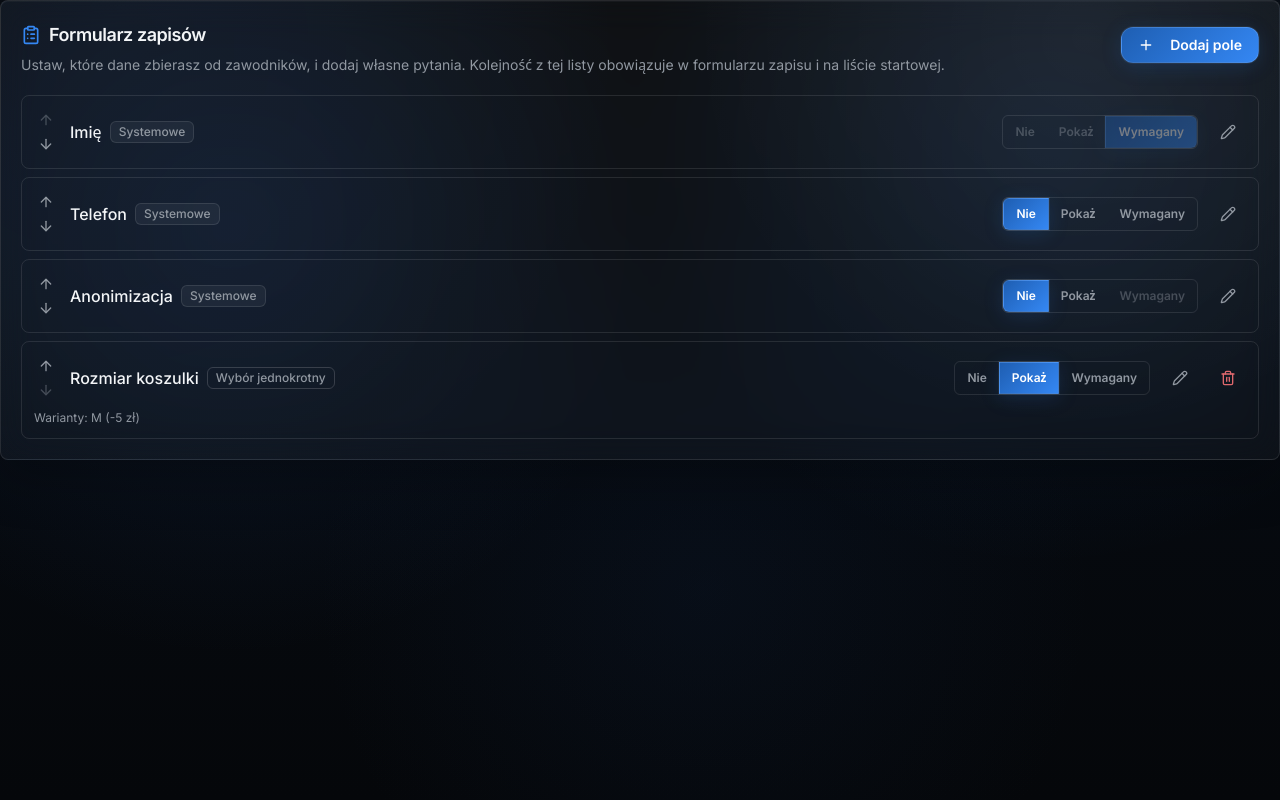
Test: FormFieldsTab › changes the tri-state of a free system position and shows the server message on error
Click the button "Wymagany" in the row of "Telefon" at {"x": 1152, "y": 214}, box [1107,198,1197,230]
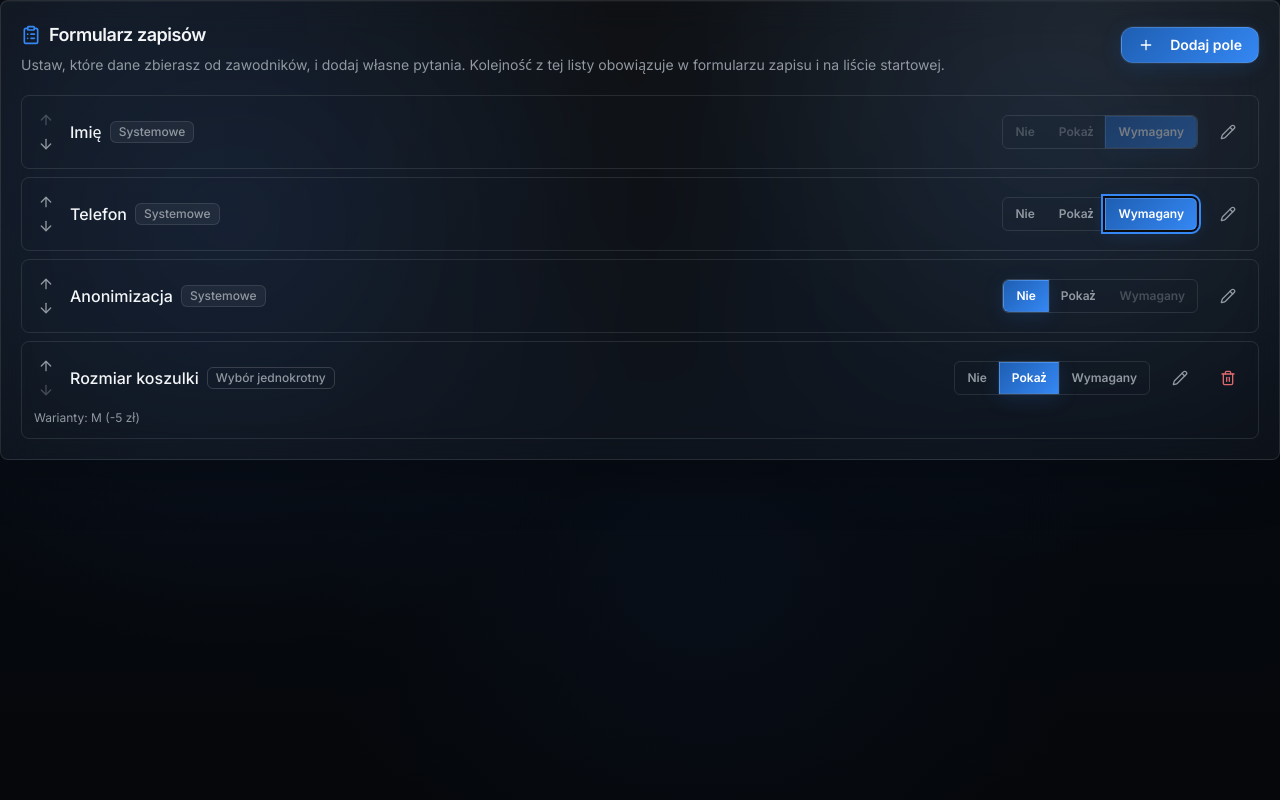
Click the button "Pokaż" in the row of "Telefon" at {"x": 1076, "y": 214}, box [1047,198,1105,230]
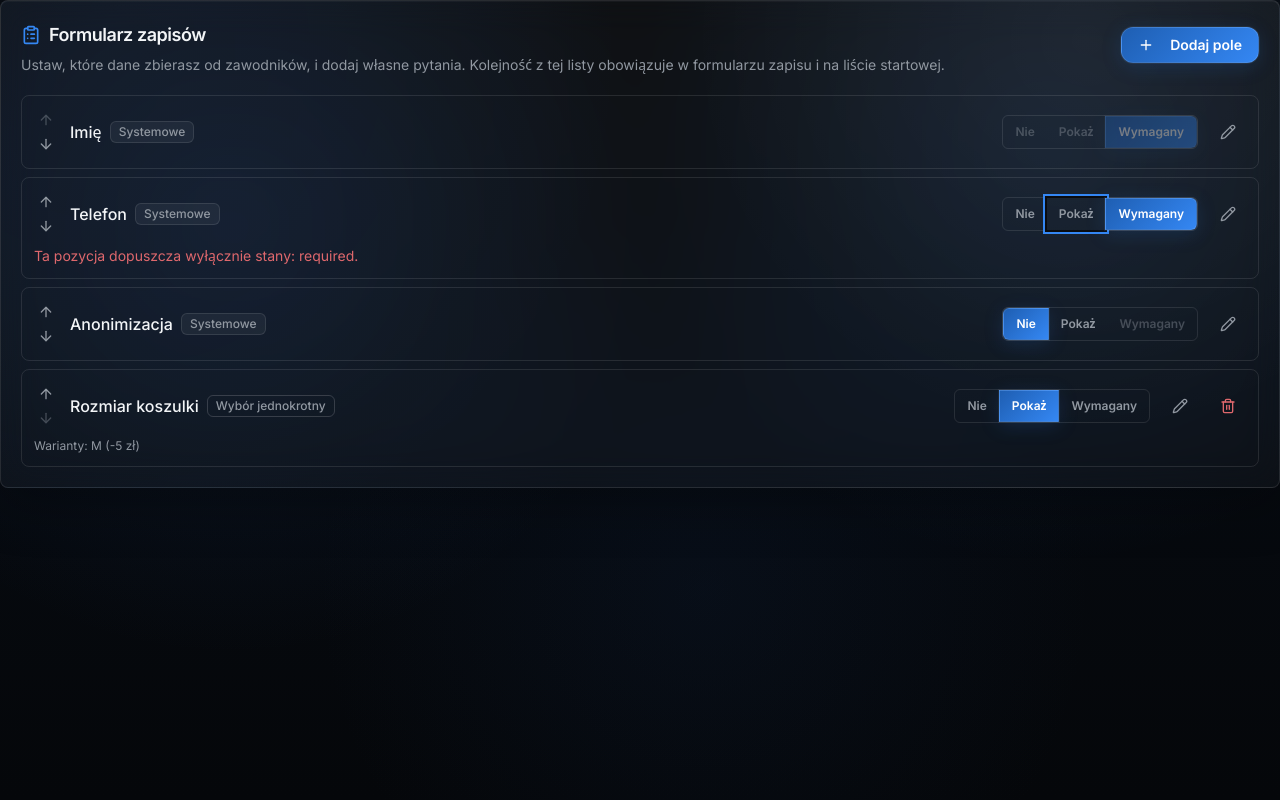
expect the message shows "dopuszcza wyłącznie stany": met, box [34,247,358,264]
